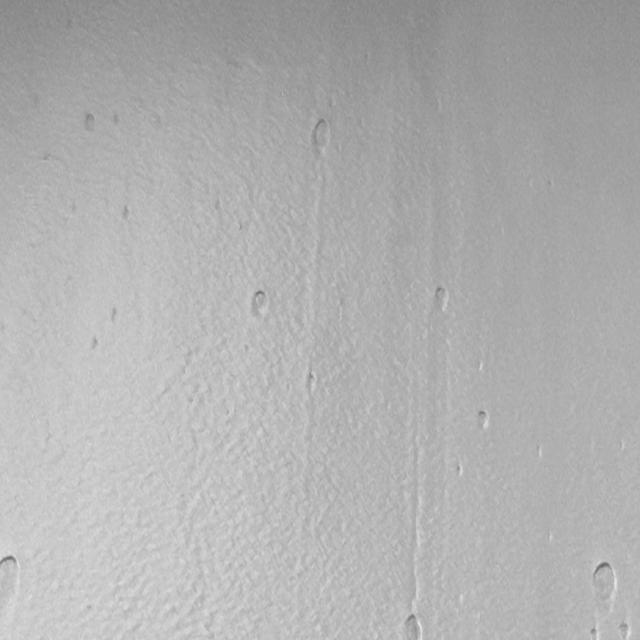pin holes: (588, 562, 618, 610), (306, 118, 333, 154), (1, 555, 24, 594), (247, 287, 270, 320), (400, 611, 424, 640), (432, 284, 453, 312), (80, 112, 100, 138), (474, 409, 492, 434), (304, 371, 321, 396), (88, 333, 104, 356), (121, 204, 137, 226), (616, 621, 633, 640), (111, 112, 125, 130), (110, 306, 123, 324), (586, 626, 602, 640), (452, 463, 464, 480)
